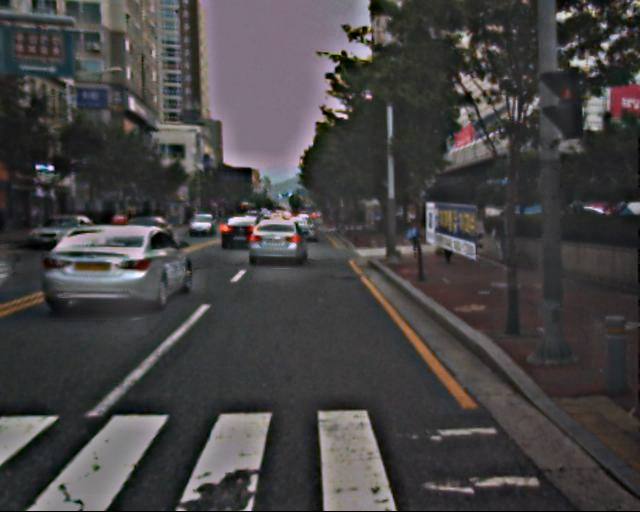person: (490, 211, 513, 268), (442, 219, 461, 266), (408, 216, 426, 261)
